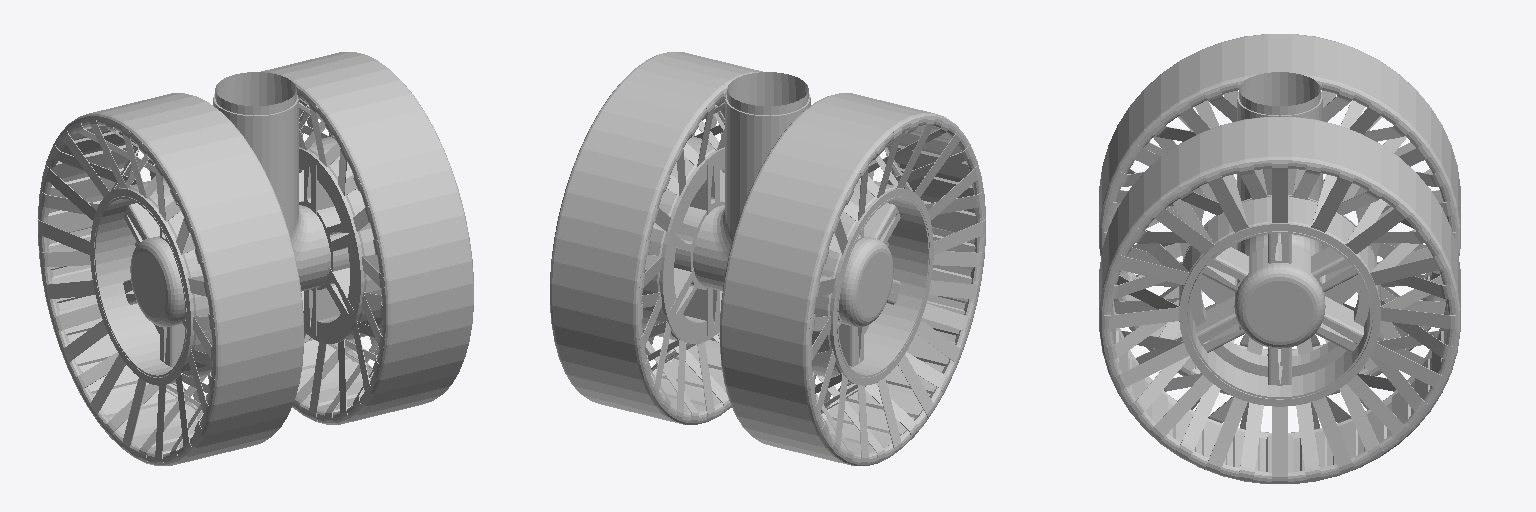
The model's file is mmsev_tire.obj.
The picture shows the model from 3 angles: view 1: azimuth 30°, elevation 25°; view 2: azimuth 150°, elevation 25°; view 3: azimuth 270°, elevation 25°; orthographic projection.
Parts seen in each view (by area): view 1: Wheels_MMSEV2278_032MMSEV2279_032MMSEV2280_032MMSEV2301_032MMSEV; view 2: Wheels_MMSEV2278_032MMSEV2279_032MMSEV2280_032MMSEV2301_032MMSEV; view 3: Wheels_MMSEV2278_032MMSEV2279_032MMSEV2280_032MMSEV2301_032MMSEV.
Part boxes in pixels (left/top/right/bottom): Wheels_MMSEV2278_032MMSEV2279_032MMSEV2280_032MMSEV2301_032MMSEV: left=38, top=52, right=473, bottom=465; Wheels_MMSEV2278_032MMSEV2279_032MMSEV2280_032MMSEV2301_032MMSEV: left=550, top=52, right=985, bottom=465; Wheels_MMSEV2278_032MMSEV2279_032MMSEV2280_032MMSEV2301_032MMSEV: left=1099, top=34, right=1460, bottom=483.
Bounding box in the file's own units: 0.6361 × 0.7797 × 0.7654.